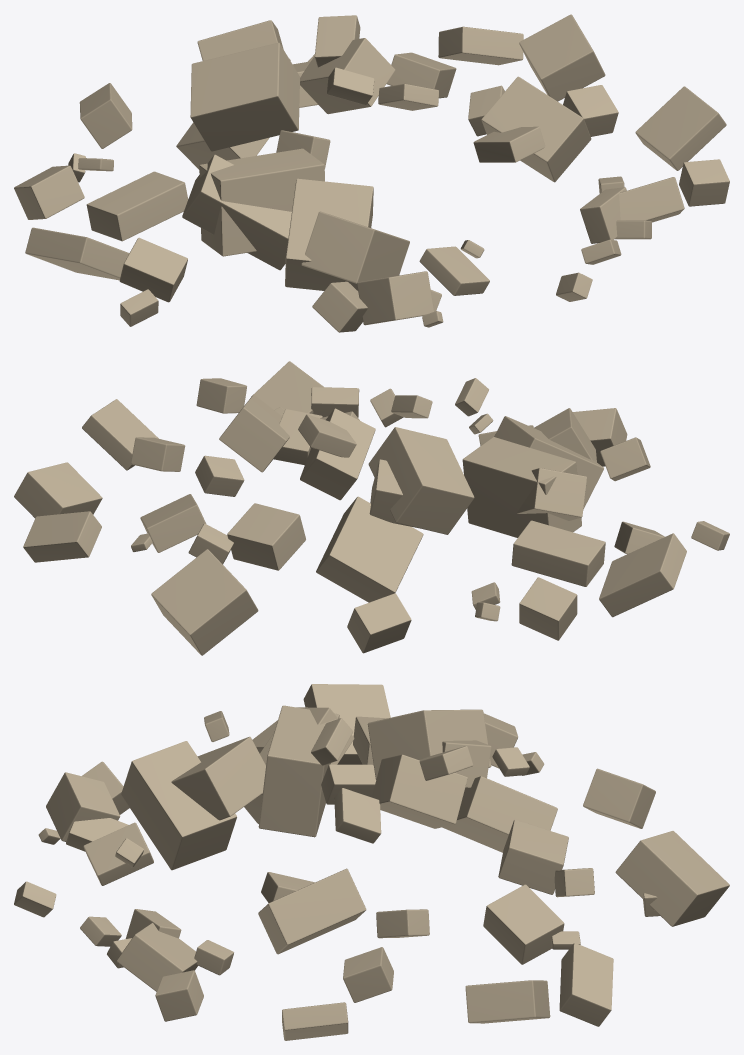
File: debris-pile.glb
3 views of the same model, one above another, from view 1: azimuth 30°, elevation 25°; view 2: azimuth 150°, elevation 25°; view 3: azimuth 270°, elevation 25° (orthographic). The views are drawn at different scales.
Parts seen in each view (by area): view 1: debris-pile; view 2: debris-pile; view 3: debris-pile.
Part boxes in pixels (x1=…): debris-pile: x1=14, y1=14, x2=729, y2=332; debris-pile: x1=14, y1=361, x2=729, y2=655; debris-pile: x1=14, y1=684, x2=729, y2=1040.
Size of the model in its own units: 1.54 by 0.3719 by 1.41.
